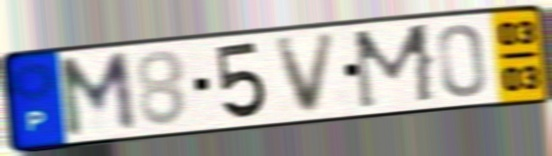0: (434, 21, 489, 100)
5: (213, 39, 268, 121)
8: (134, 46, 191, 131)
M: (350, 20, 440, 113), (54, 48, 141, 142)
V: (271, 29, 342, 118)
